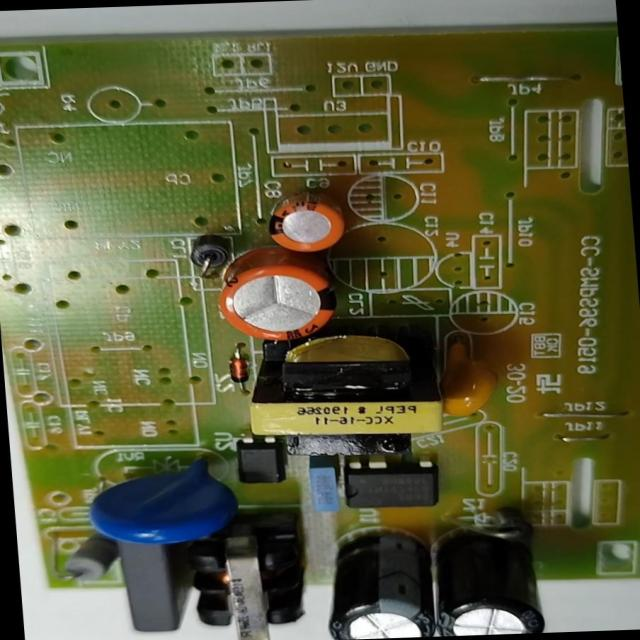Cap1: (206, 244, 347, 345)
Cap2: (255, 179, 364, 257)
Cap3: (410, 515, 566, 637)
Cap4: (316, 529, 453, 640)
MOSFET: (341, 454, 444, 514)
Mov: (63, 452, 251, 550)
Resistor: (43, 530, 135, 590)
Transformer: (242, 312, 469, 448), (180, 504, 320, 640)
